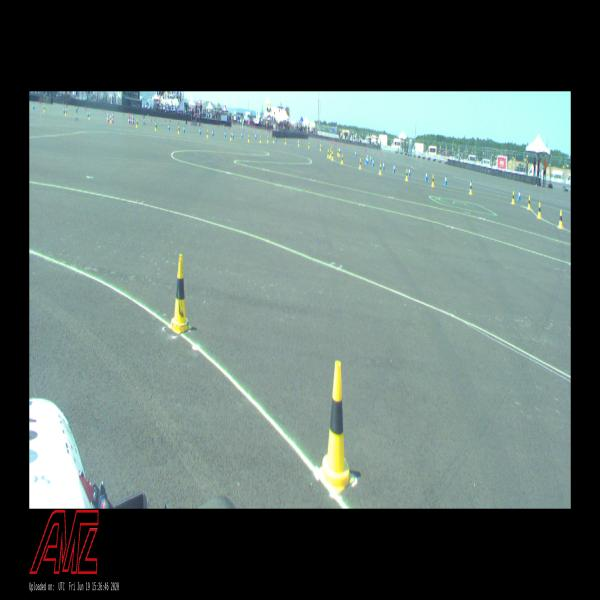blue_cone: (518, 189, 521, 200), (469, 179, 472, 190), (425, 170, 428, 181), (408, 166, 411, 177), (444, 175, 447, 185), (366, 156, 369, 164), (393, 164, 395, 173), (382, 161, 384, 170), (372, 158, 374, 167)
large_orange_cone: (111, 111, 114, 123), (107, 111, 110, 122), (128, 113, 130, 124), (132, 114, 134, 124)
yellow_cone: (319, 361, 354, 493), (168, 254, 192, 334), (558, 210, 563, 229), (538, 202, 542, 219), (527, 196, 531, 209), (511, 191, 515, 204), (405, 169, 408, 181), (469, 183, 472, 194), (432, 175, 434, 186), (379, 164, 381, 174), (359, 159, 361, 169), (341, 154, 343, 164), (206, 130, 208, 138), (155, 122, 157, 130), (136, 120, 138, 128), (178, 126, 179, 134), (89, 112, 90, 120), (110, 116, 111, 122)
